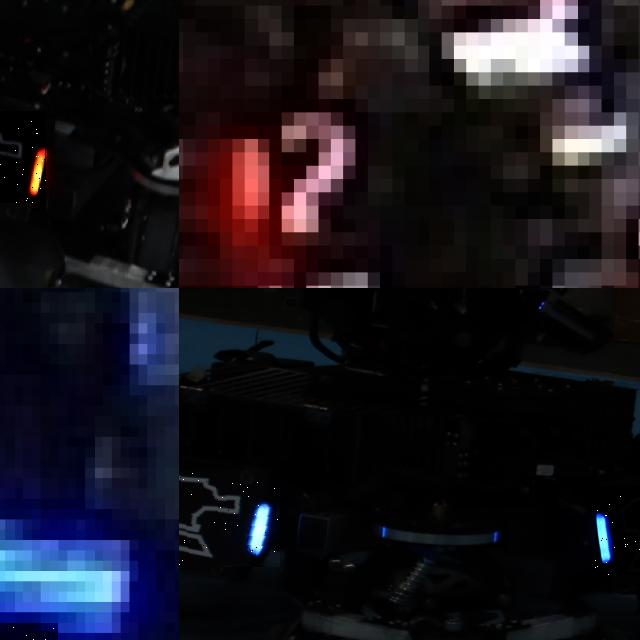Bs: (179, 470, 279, 566), (595, 486, 640, 574)
Rs: (0, 111, 46, 202)
